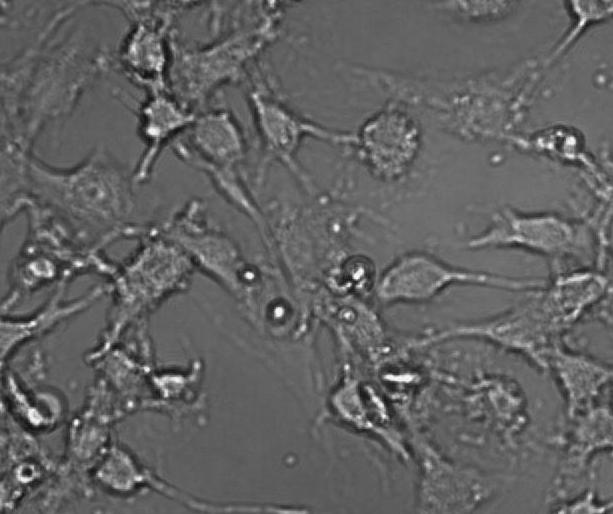Dead: (526, 120, 593, 171), (139, 359, 208, 404), (3, 371, 54, 430), (335, 251, 384, 302), (356, 380, 396, 426), (378, 359, 428, 389)
